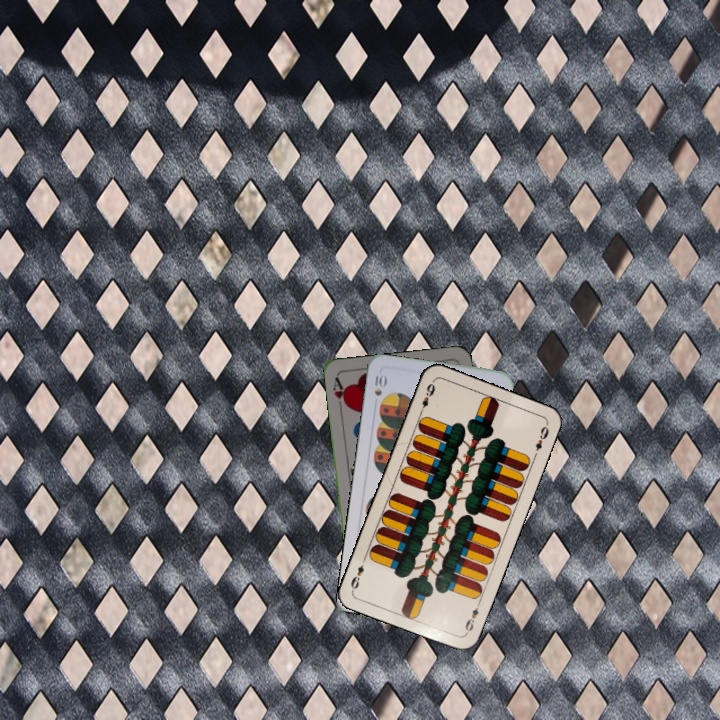E9: (461, 597, 483, 636), (416, 379, 438, 417)
HA: (328, 373, 350, 414)
S10: (370, 371, 389, 398)
